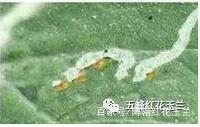liriomyza: (51, 6, 200, 92)
